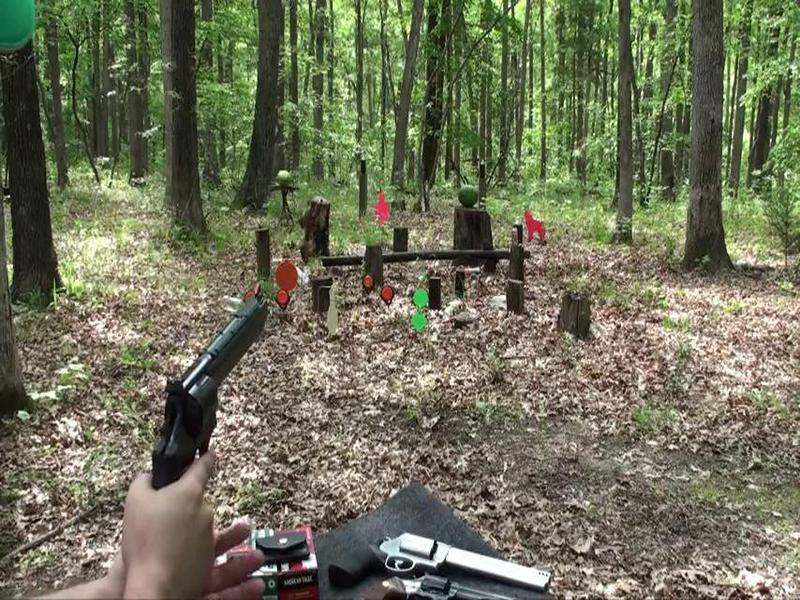Revolver: (140, 286, 275, 510)
